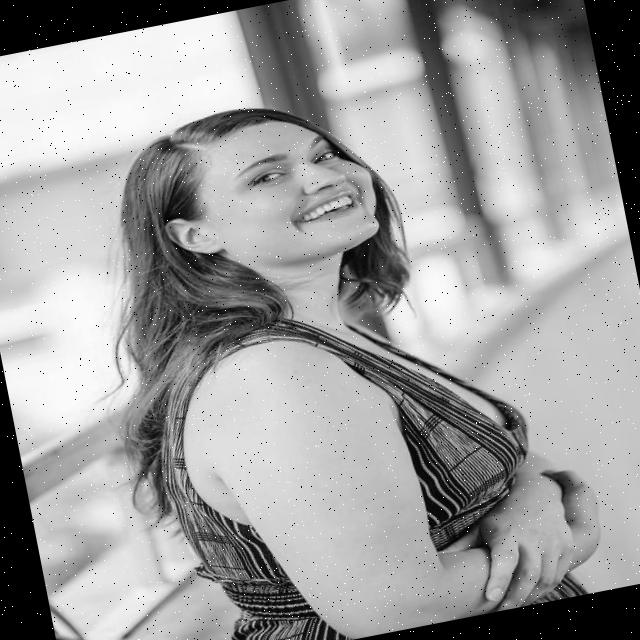Happiness: (190, 104, 388, 280)
